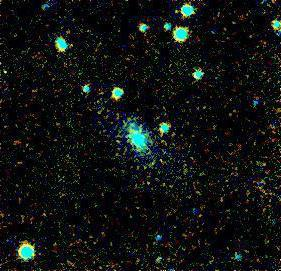star: (117, 110, 147, 140)
